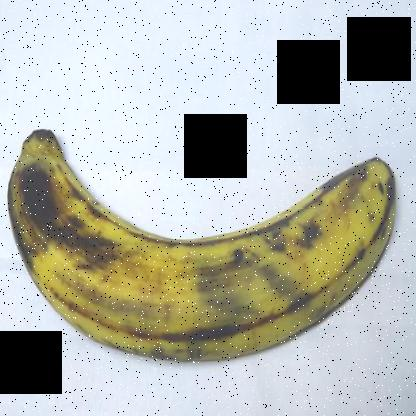overripe: (4, 100, 404, 391)
